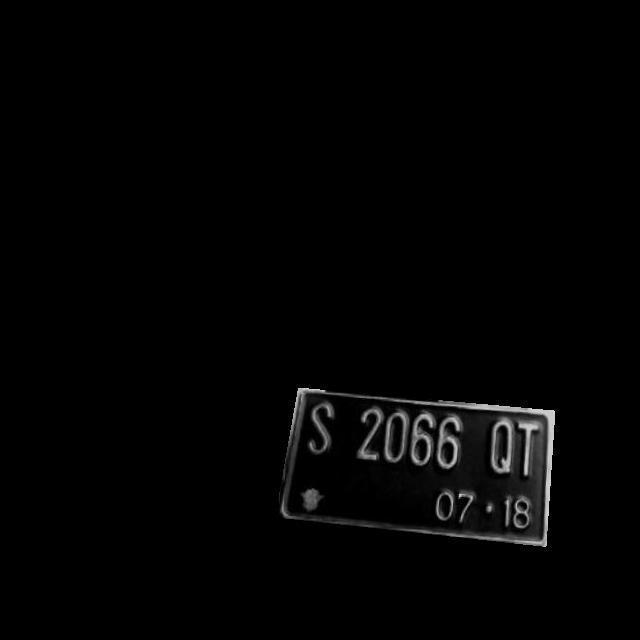0: (379, 405, 413, 472)
2: (346, 401, 390, 470)
6: (432, 406, 468, 479), (404, 406, 441, 476)
Q: (486, 414, 515, 478)
S: (299, 397, 343, 460)
T: (515, 418, 541, 480)
